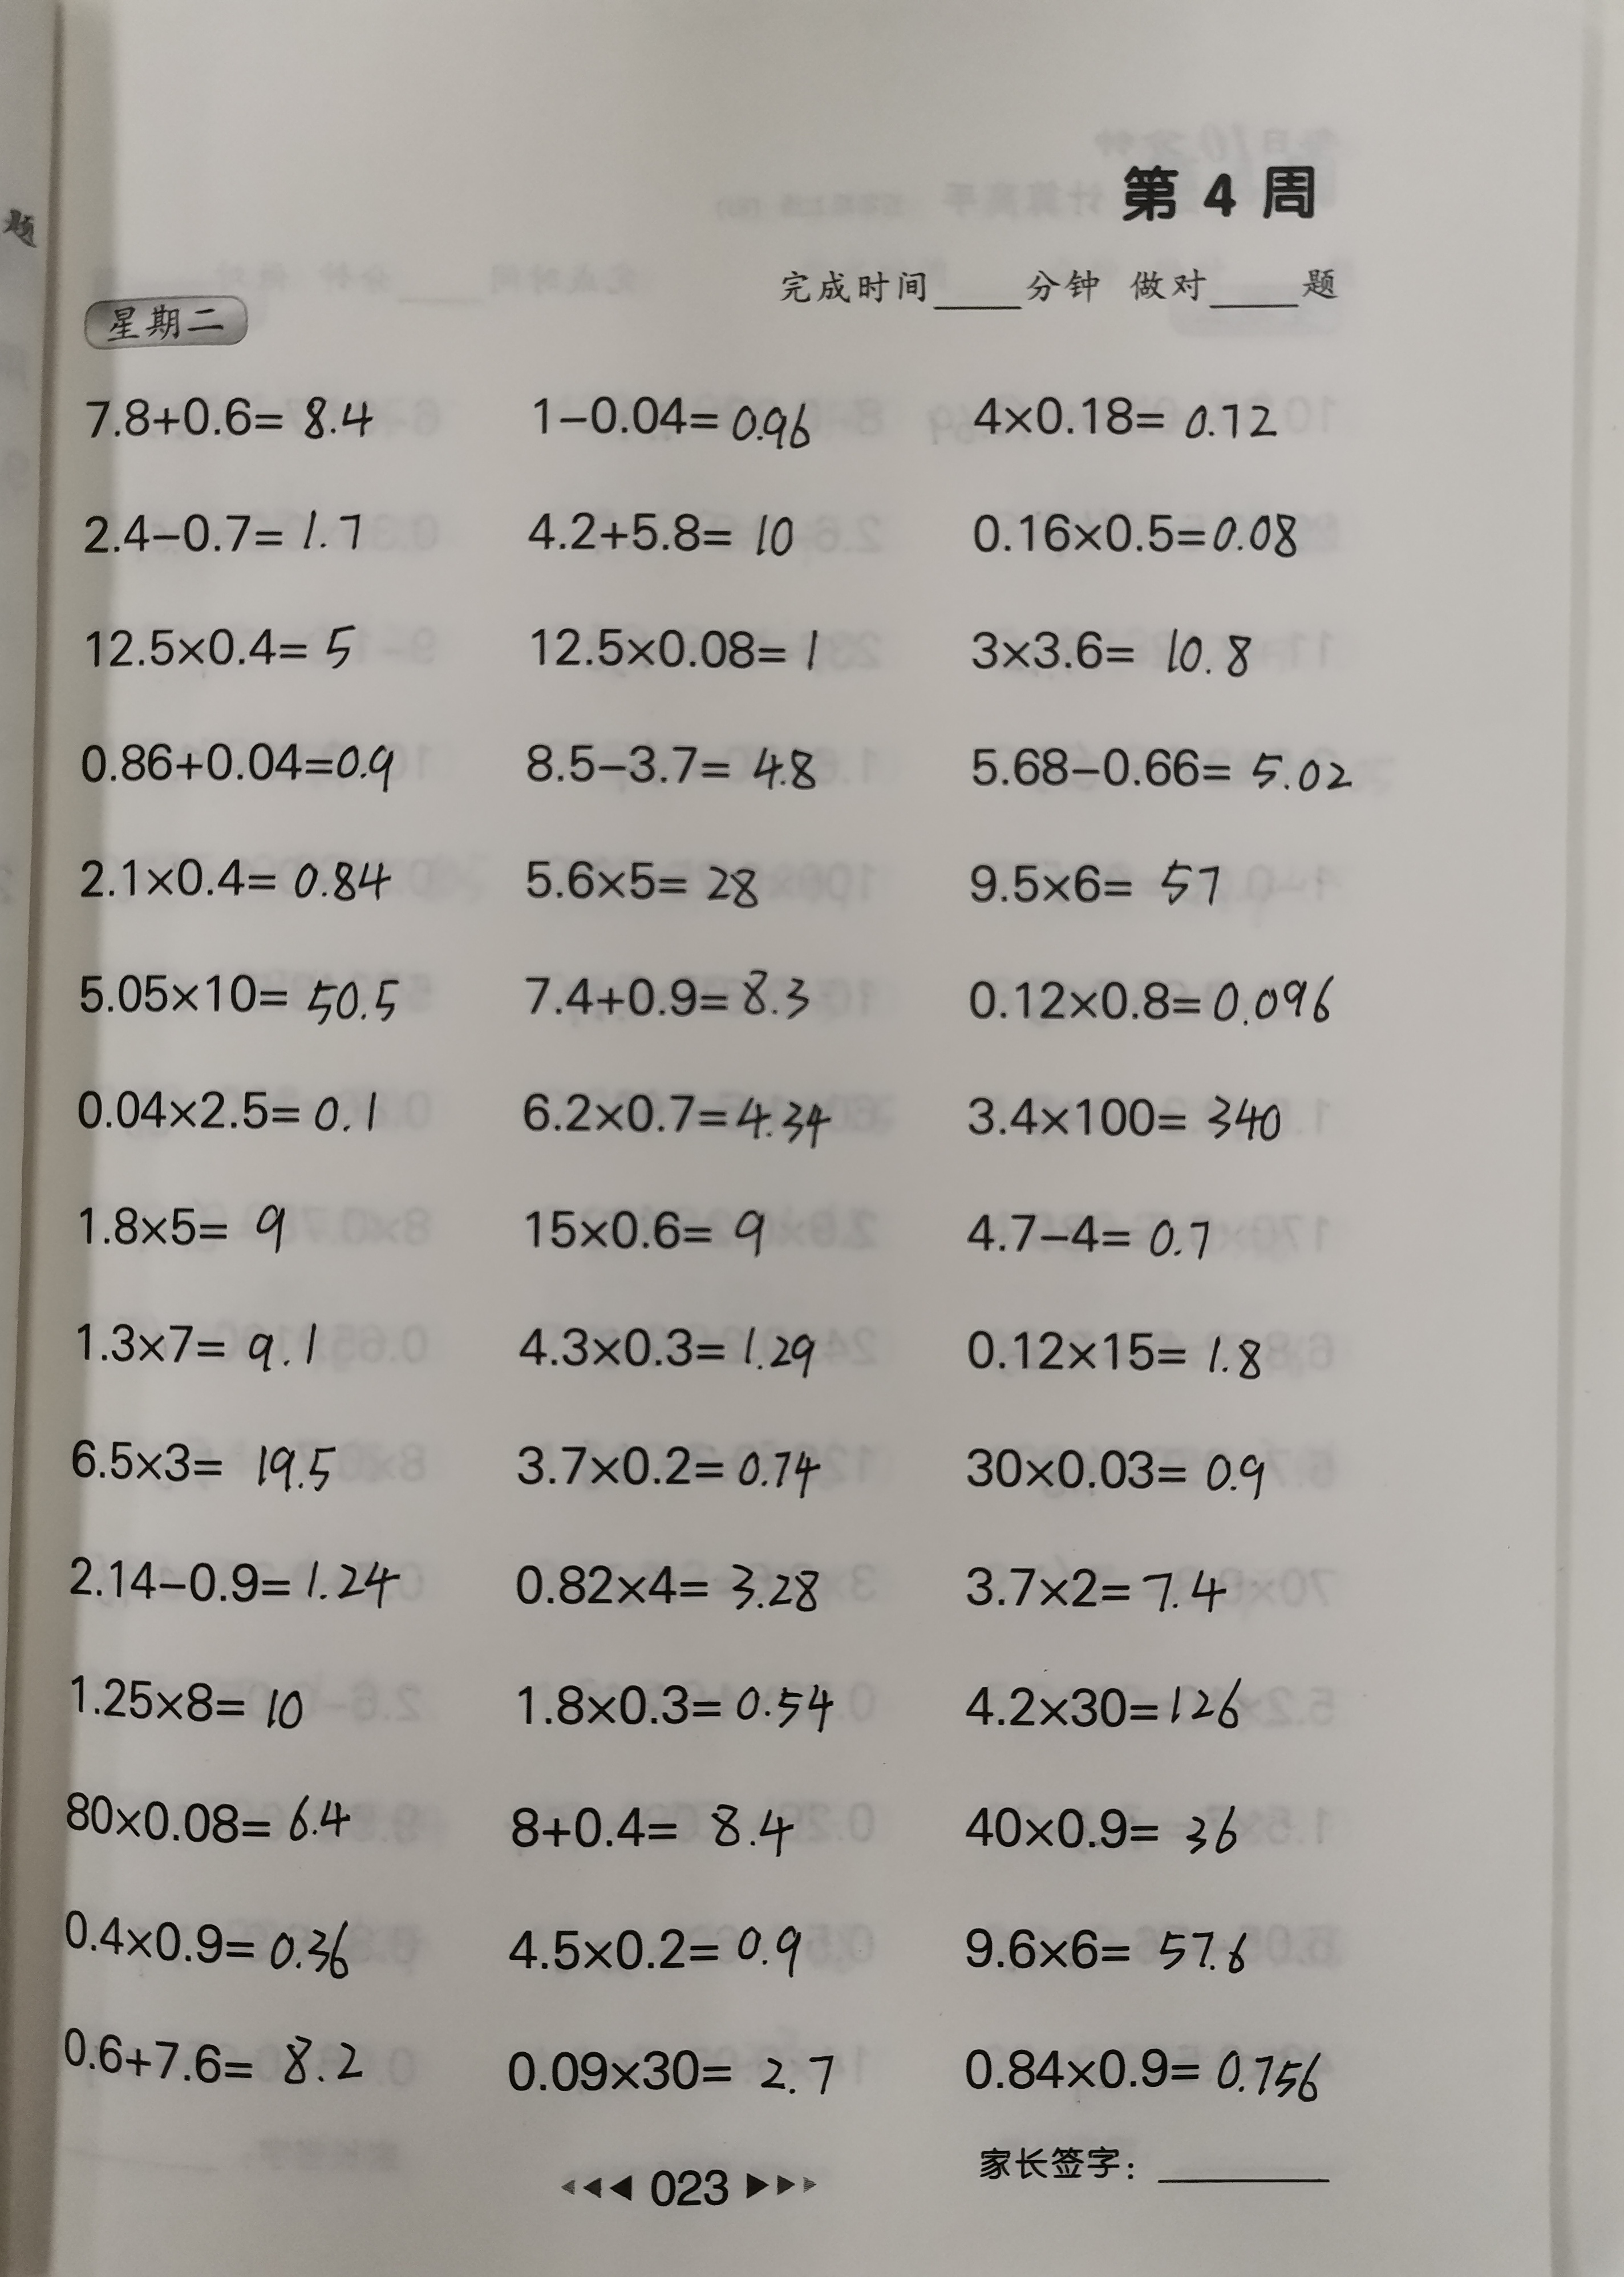equation: (953, 723, 1367, 812), (942, 2029, 1350, 2112), (958, 964, 1364, 1044), (492, 2024, 859, 2112), (69, 717, 406, 812), (954, 489, 1311, 577), (70, 949, 408, 1039), (53, 1894, 376, 1987), (951, 1305, 1285, 1394), (511, 1301, 842, 1391), (53, 2010, 385, 2096), (511, 375, 828, 464), (492, 1910, 830, 1990), (933, 1901, 1276, 1980), (510, 723, 837, 805), (503, 1544, 837, 1625), (503, 1665, 842, 1744), (70, 839, 417, 916), (958, 373, 1301, 450), (51, 1419, 359, 1505), (53, 1542, 411, 1616), (56, 1774, 359, 1860), (951, 1438, 1297, 1512), (497, 1424, 835, 1500), (954, 608, 1269, 689), (506, 605, 838, 680), (513, 1080, 842, 1153), (508, 840, 789, 925), (954, 1085, 1299, 1153), (490, 1790, 810, 1864), (69, 1074, 401, 1145), (60, 1305, 348, 1386), (942, 1792, 1260, 1864), (72, 378, 388, 450), (69, 494, 383, 566), (953, 1665, 1272, 1735), (511, 960, 821, 1032), (508, 498, 816, 570), (76, 608, 380, 680), (947, 846, 1255, 916), (953, 1197, 1236, 1273), (60, 1665, 327, 1744), (953, 1551, 1237, 1625), (67, 1187, 311, 1266), (515, 1192, 791, 1261)
